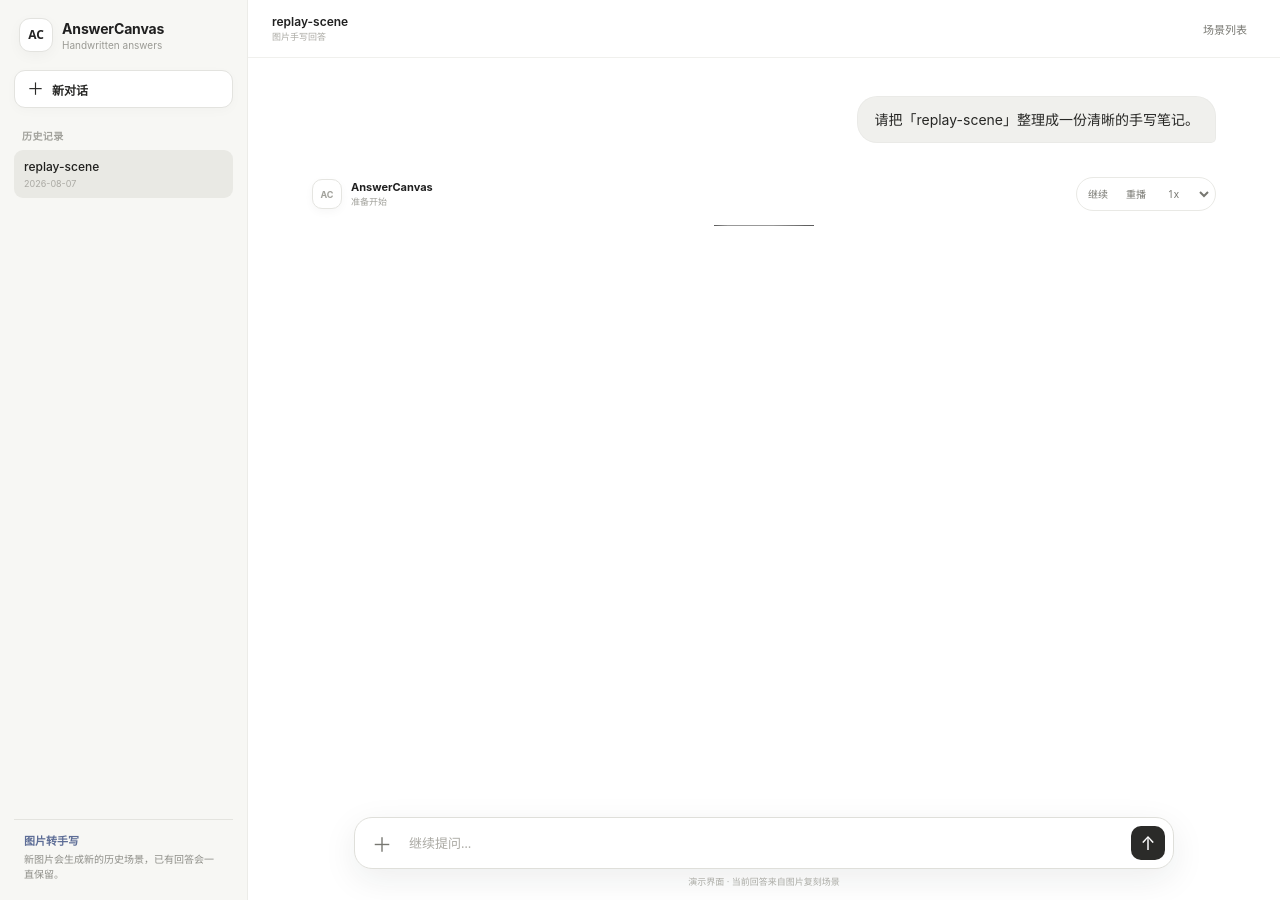
Test: RecreationStage playback controls › resets to paused and waits for continue
Click the button "重播": (1136, 194) [1118,183,1154,205]
Wait 500 ms
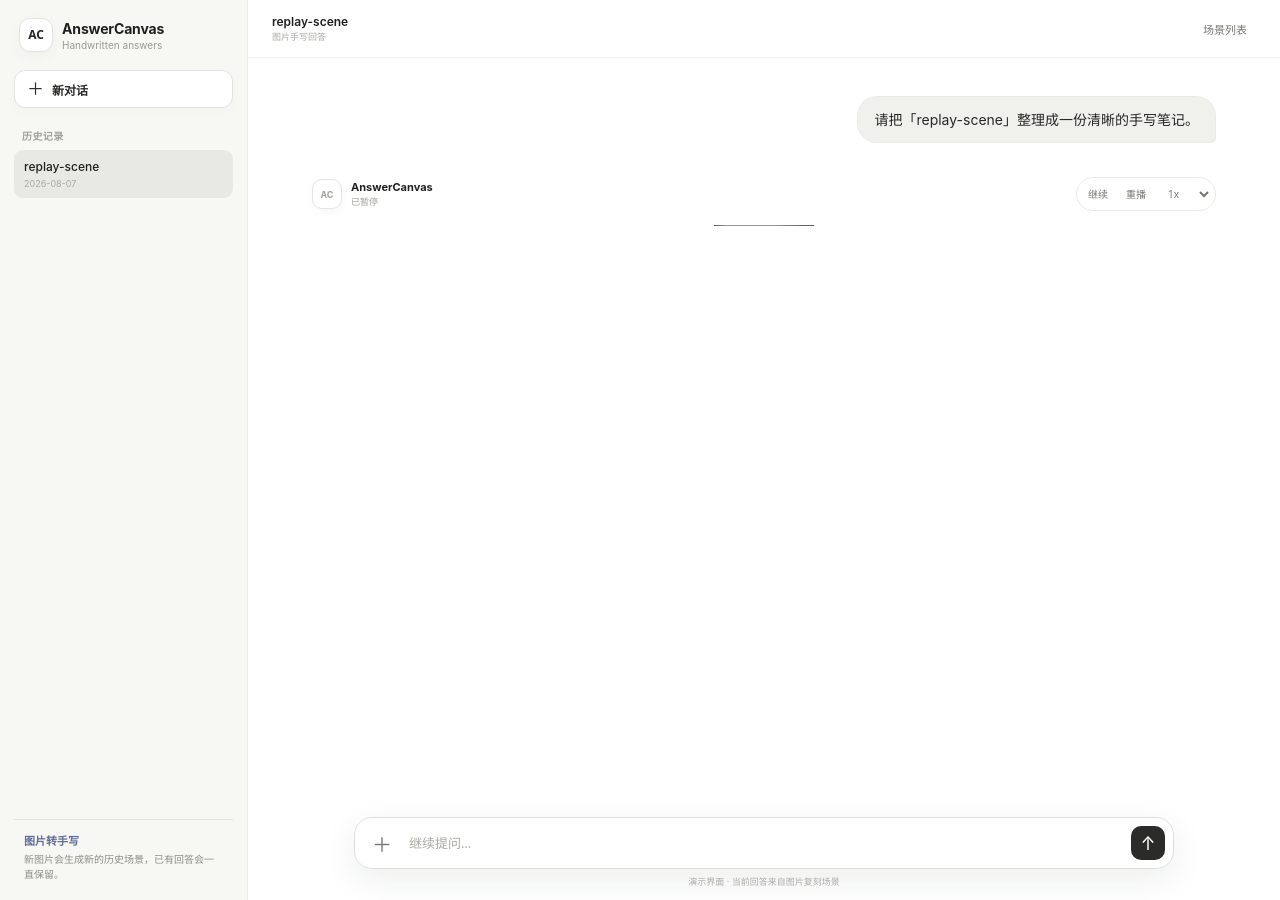
Now the text "已暂停" is shown, box [351,196,378,207]
Click the button "继续": (1098, 194) [1080,183,1116,205]
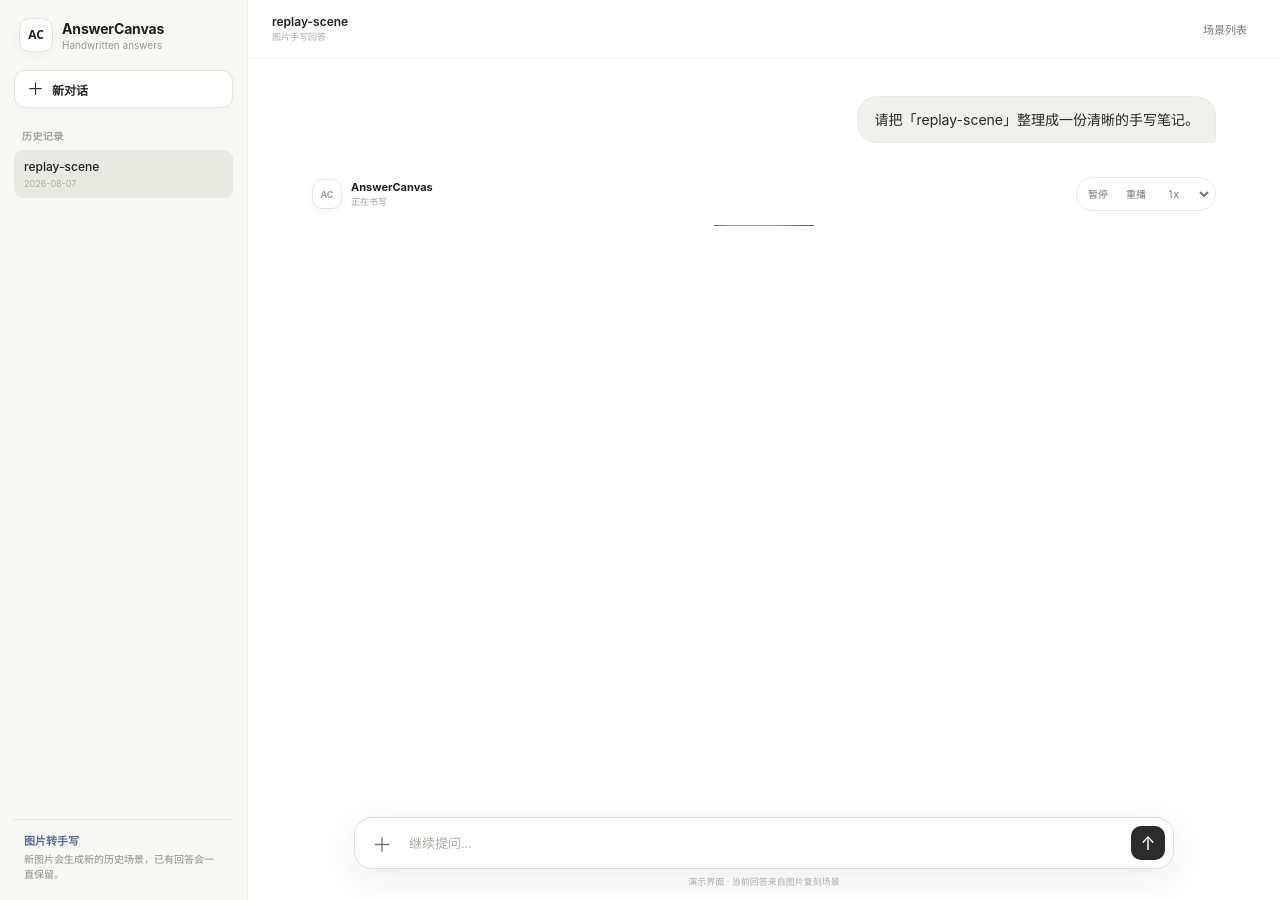
Now the button "暂停" is shown, box [1080,183,1116,205]
